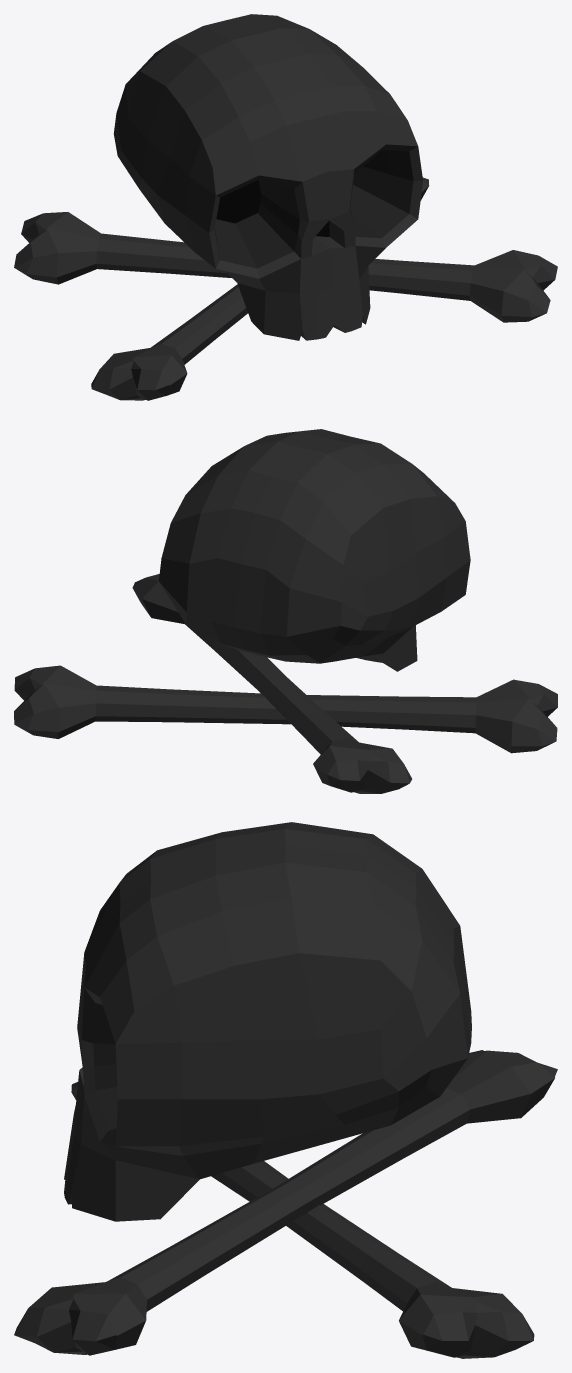
The model's file is SM_SkullBone_01.fbx.
3 views of the same model, one above another, from view 1: azimuth 30°, elevation 25°; view 2: azimuth 150°, elevation 25°; view 3: azimuth 270°, elevation 25° (orthographic). The views are drawn at different scales.
Parts seen in each view (by area): view 1: Calabera, Hueso.003, Hueso; view 2: Calabera, Hueso, Hueso.003; view 3: Calabera, Hueso.003, Hueso.
Boxes of the visible parts, x1=… form: Calabera: x1=113, y1=14, x2=422, y2=340; Hueso.003: x1=14, y1=212, x2=557, y2=322; Hueso: x1=91, y1=177, x2=429, y2=400; Calabera: x1=159, y1=429, x2=470, y2=671; Hueso: x1=14, y1=665, x2=557, y2=753; Hueso.003: x1=132, y1=574, x2=411, y2=793; Calabera: x1=64, y1=822, x2=471, y2=1221; Hueso.003: x1=14, y1=1050, x2=557, y2=1355; Hueso: x1=71, y1=1082, x2=534, y2=1358.
Bounding box in the file's own units: 0.4778 × 0.297 × 0.3638.
